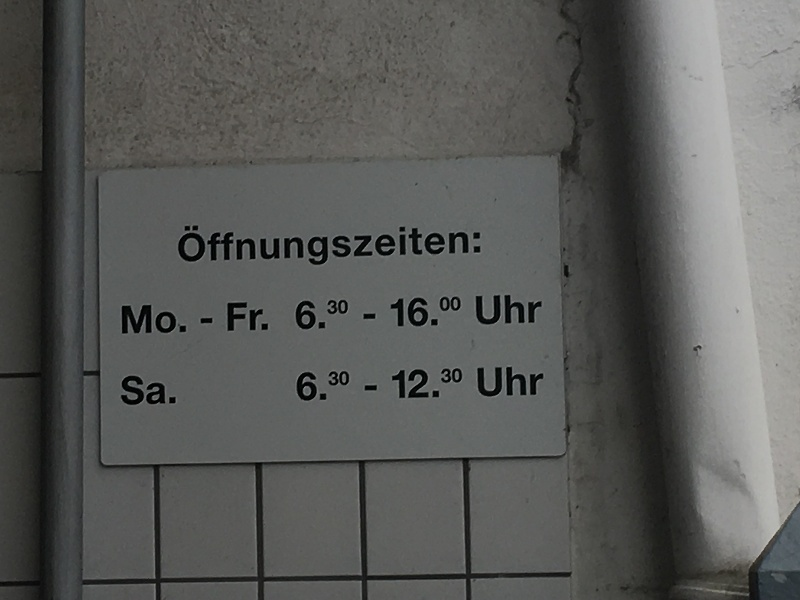text: (193, 225, 208, 268), (209, 225, 224, 268), (225, 225, 240, 268), (241, 225, 256, 268), (257, 225, 272, 268), (273, 225, 288, 268), (289, 225, 304, 268), (305, 225, 320, 268), (321, 225, 336, 268), (337, 225, 352, 268), (353, 225, 368, 268), (369, 225, 384, 268), (385, 225, 400, 268), (401, 225, 416, 268), (417, 225, 432, 268), (433, 225, 448, 268), (449, 225, 464, 268), (465, 225, 480, 268), (129, 302, 144, 337), (145, 302, 160, 337), (161, 302, 176, 337), (177, 302, 192, 337), (193, 302, 208, 337), (209, 302, 224, 337), (225, 302, 240, 337), (241, 302, 256, 337), (305, 367, 320, 402), (321, 367, 336, 402), (337, 367, 352, 402), (353, 367, 368, 402), (369, 367, 384, 402), (385, 367, 400, 402), (401, 367, 416, 402), (417, 367, 432, 402), (433, 367, 448, 402), (305, 297, 320, 331), (321, 297, 336, 331), (337, 297, 352, 331), (353, 297, 368, 331), (369, 297, 384, 331), (385, 297, 400, 331), (401, 297, 416, 331), (417, 297, 432, 331), (433, 297, 448, 331), (161, 376, 177, 406), (181, 225, 192, 268), (481, 367, 496, 398), (497, 367, 512, 398), (513, 367, 528, 398), (449, 367, 462, 402), (129, 376, 144, 406), (145, 376, 160, 406), (481, 295, 496, 325), (497, 295, 512, 325), (513, 295, 528, 325), (529, 367, 543, 398), (257, 302, 269, 337), (449, 297, 461, 331), (529, 295, 542, 325), (295, 297, 304, 331), (296, 367, 304, 402), (121, 376, 128, 406), (122, 302, 128, 337), (476, 295, 480, 325), (477, 367, 480, 398), (481, 225, 482, 268)
